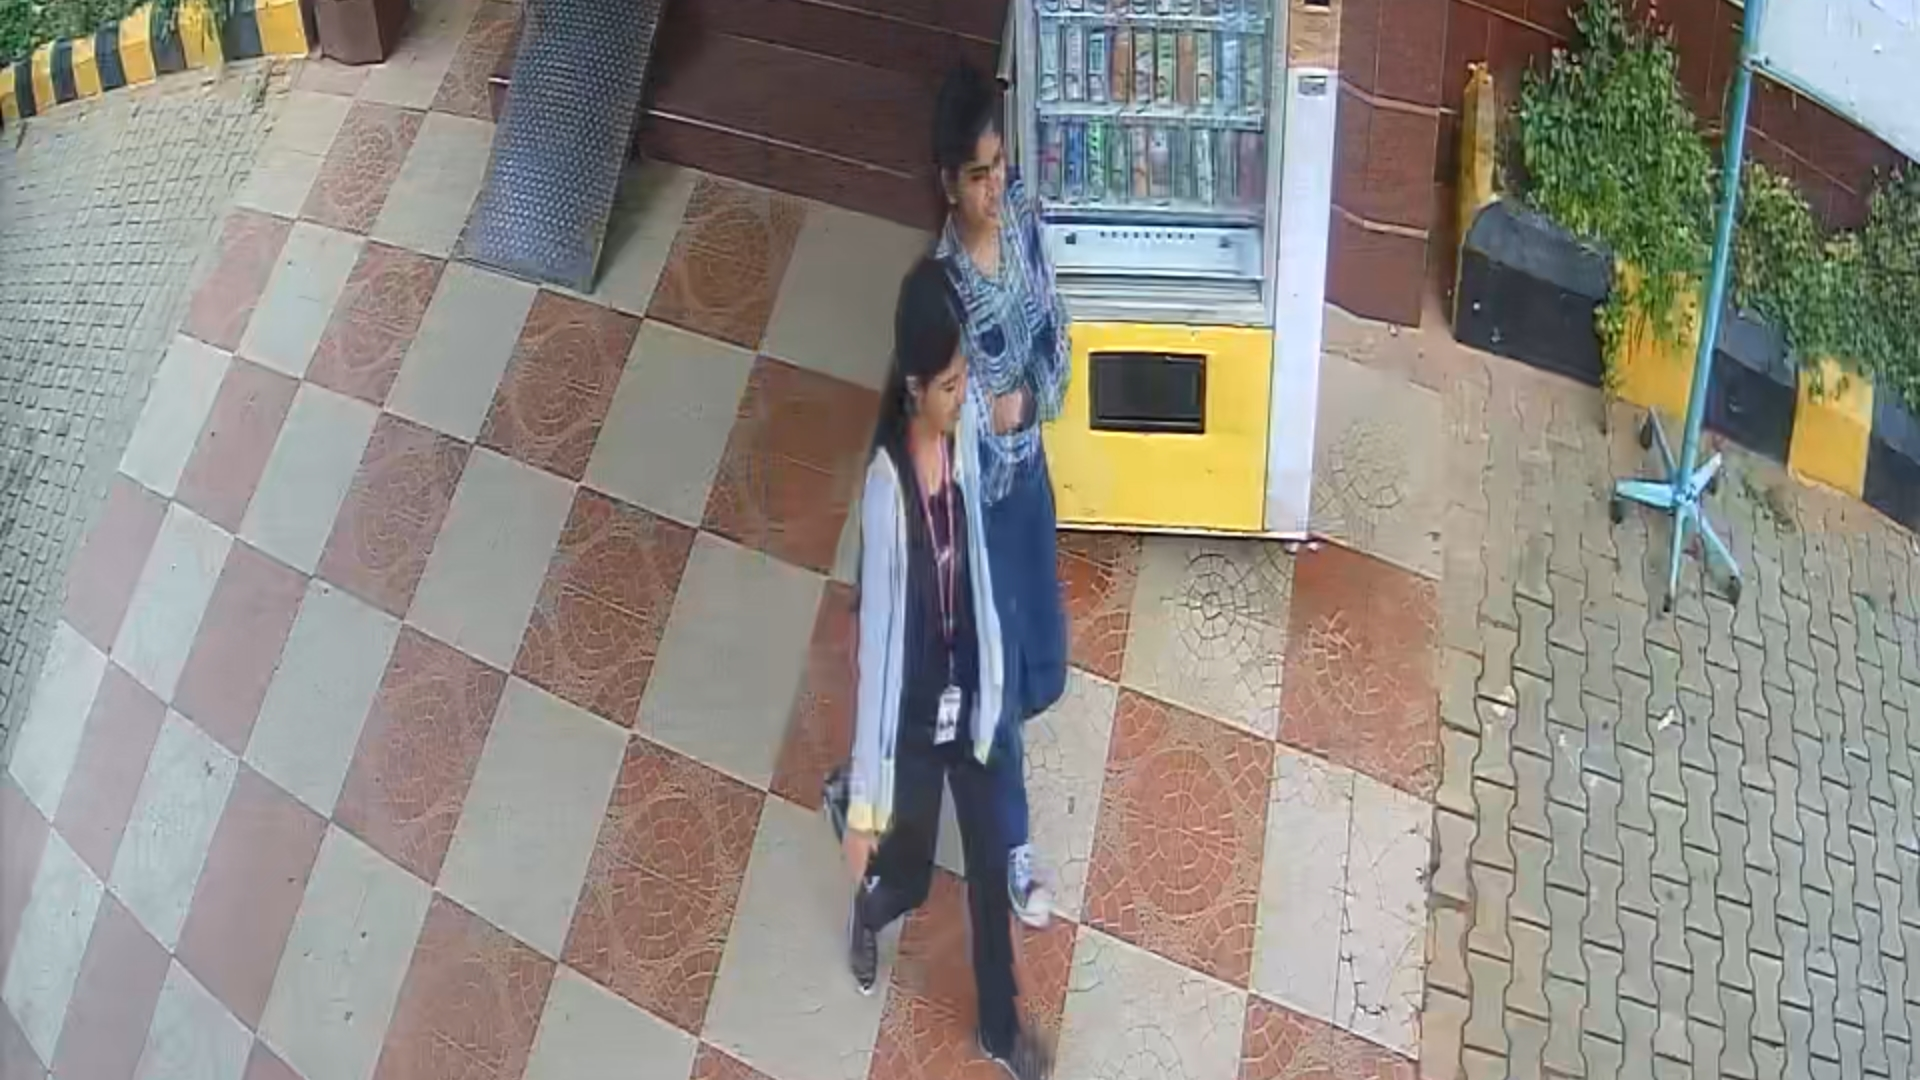intruder: (916, 50, 1085, 841)
not intruder: (819, 244, 1044, 1062)
